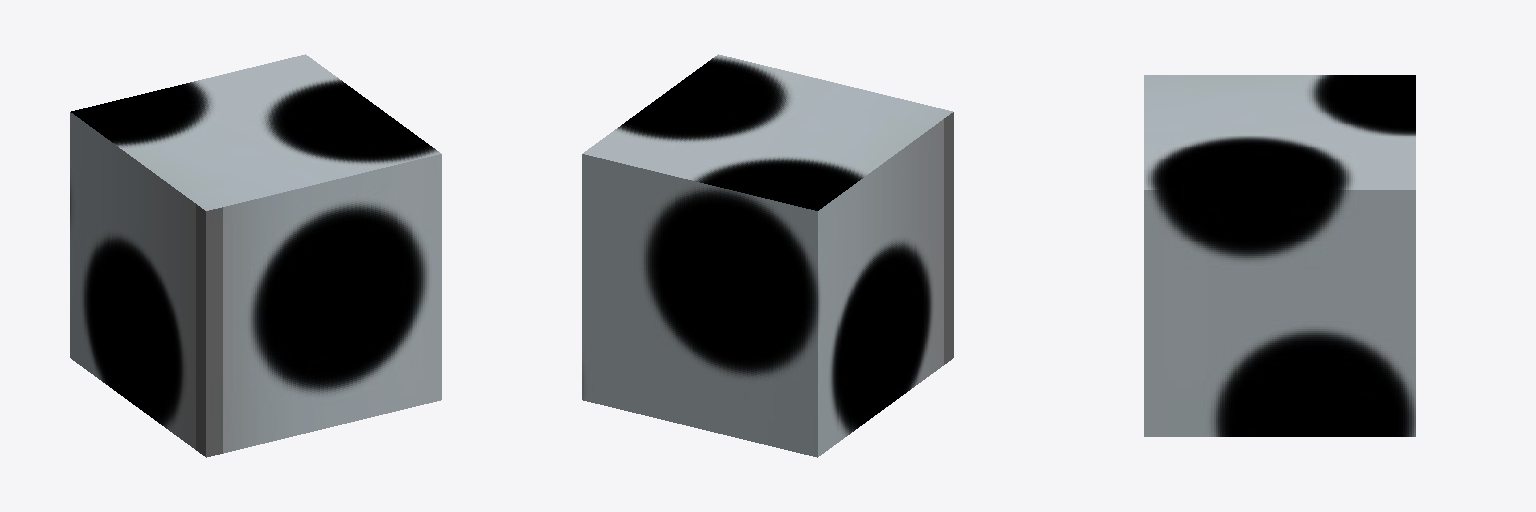
The picture shows the model from 3 angles: view 1: azimuth 30°, elevation 25°; view 2: azimuth 150°, elevation 25°; view 3: azimuth 270°, elevation 25°; orthographic projection.
Visible parts, largest first — view 1: Cube; view 2: Cube; view 3: Cube.
Part boxes in pixels (x1,y1,x2,y2): Cube: (70,54,441,457); Cube: (582,54,953,457); Cube: (1144,75,1415,436).
Size of the model in its own units: 2 by 2 by 2.
1 materials, 1 textured.